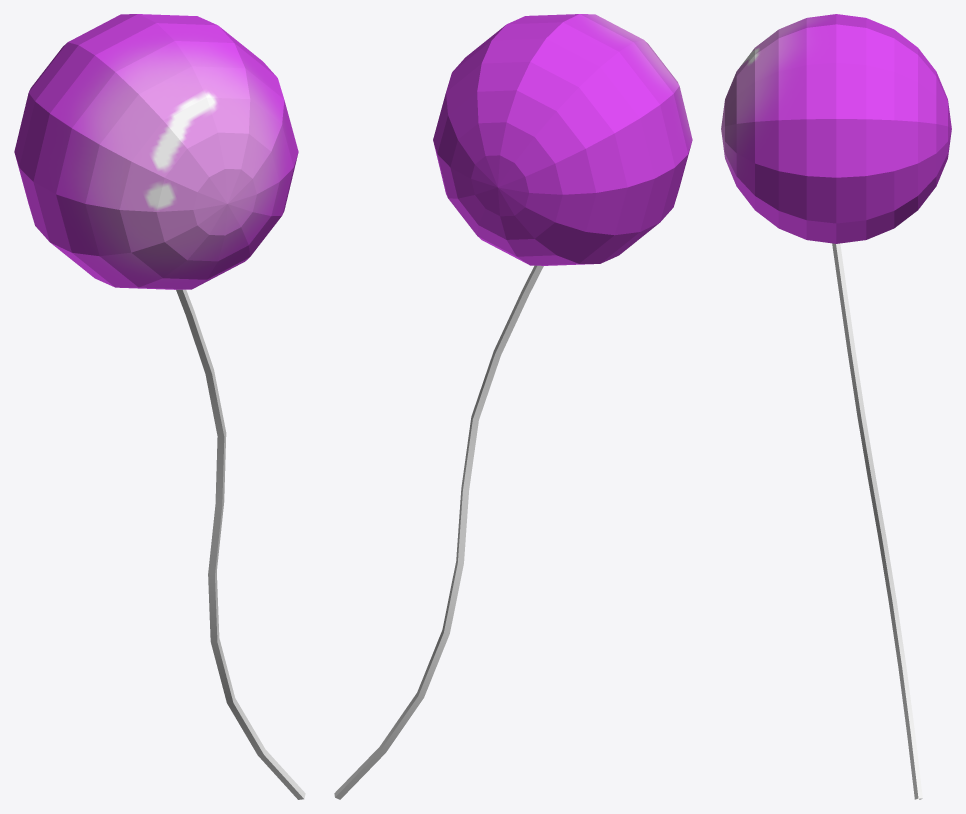
The model's file is Balloon002.fbx.
3 views of the same model, side by side, from view 1: azimuth 30°, elevation 25°; view 2: azimuth 150°, elevation 25°; view 3: azimuth 270°, elevation 25° (orthographic). The views are drawn at different scales.
Parts seen in each view (by area): view 1: polySurface5; view 2: polySurface5; view 3: polySurface5.
Boxes of the visible parts, x1,y1,x2,y2 form: polySurface5: [14, 14, 305, 799]; polySurface5: [334, 14, 692, 799]; polySurface5: [721, 14, 951, 799].
Bounding box in the file's own units: 0.3746 × 0.9551 × 0.2858.
1 material, 1 textured.
